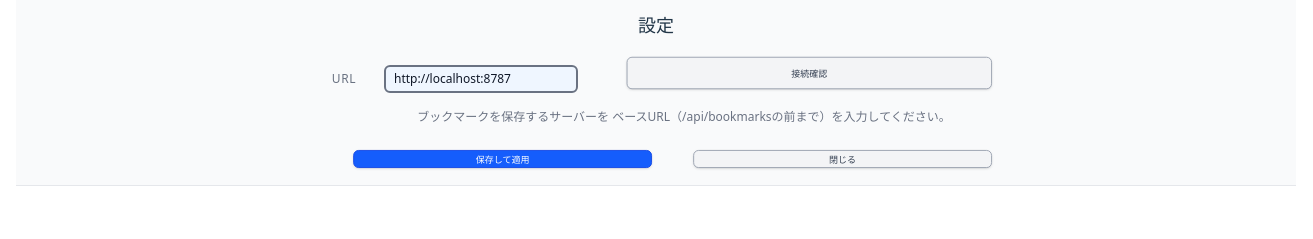
Test: SettingsPanel › 不正な形式の URL（非 localhost など）を入力して保存しようとした際、バリデーションエラーが表示されること
This screenshot has width=1313, height=239.
Step 1. Type "https://remote-api.com" into the field labelled "URL" → (481, 79), box [384, 65, 578, 93]
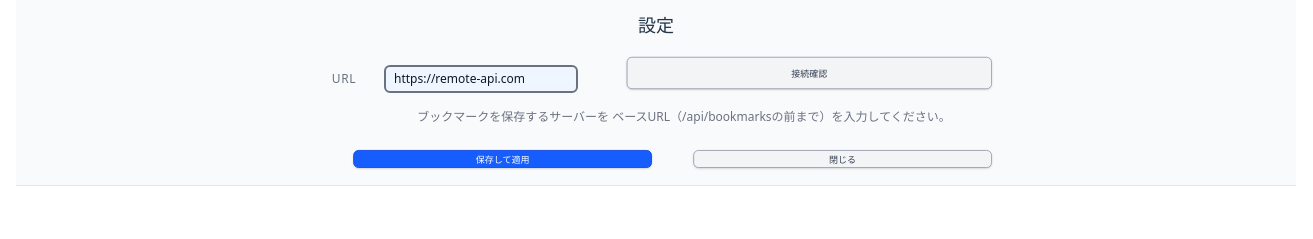
Step 2. Click the button "保存して適用" → (503, 159), box [353, 150, 652, 168]
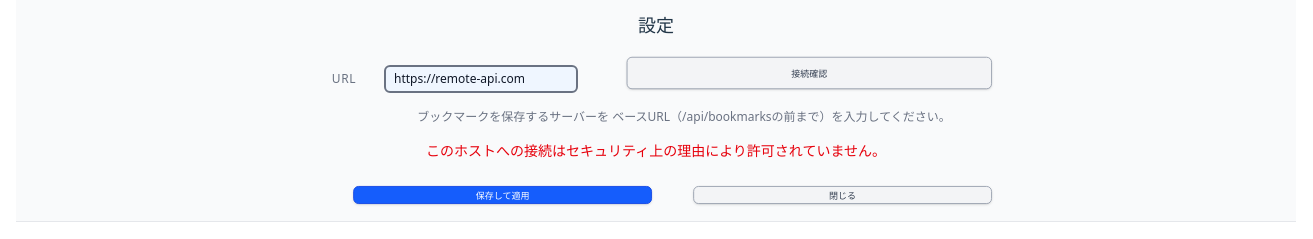
Expected: the text "このホストへの接続はセキュリティ上の理由により許可されていません。" is shown, [426, 141, 886, 160]
